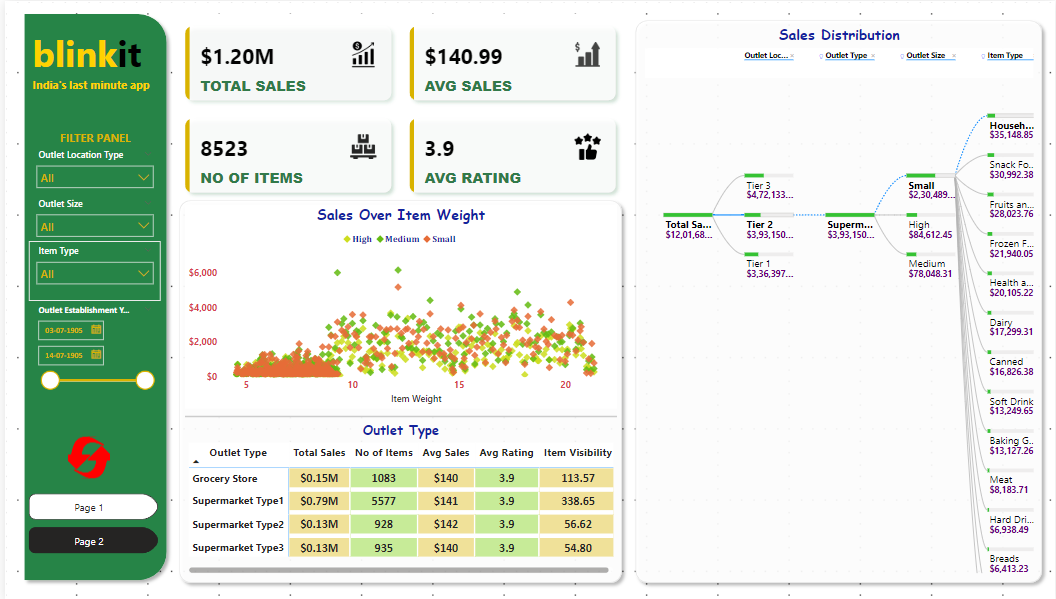

Layout of this report page (visuals, bound fields, positions):
{"tool":"powerbi","page":{"name":"Page 2","canvas":[1400,800],"ordinal":1},"visuals":[{"type":"shape","box":[16,9,208,773],"z":0},{"type":"textbox","box":[32,32,176,80],"z":1000},{"type":"textbox","box":[32,96,176,32],"z":2000},{"type":"cardVisual","fields":{"Data":["BlinkIT Grocery Data.Total Sales","BlinkIT Grocery Data.Avg Sales","BlinkIT Grocery Data.No of Items","BlinkIT Grocery Data.Avg Rating"]},"box":[224,16,608,256],"z":3000},{"type":"shape","box":[224,256,608,528],"z":4000},{"type":"shape","box":[832,16,560,768],"z":5000},{"type":"slicer","fields":{"Values":["BlinkIT Grocery Data.Outlet Location Type"]},"box":[32,192,176,64],"z":6000},{"type":"slicer","fields":{"Values":["BlinkIT Grocery Data.Outlet Size"]},"box":[32,256,176,64],"z":7000},{"type":"slicer","fields":{"Values":["BlinkIT Grocery Data.Item Type"]},"box":[32,320,176,80],"z":8000},{"type":"textbox","box":[48,167,144,32],"z":9000},{"type":"decompositionTreeVisual","title":"Sales Distribution ","fields":{"ExplainBy":["BlinkIT Grocery Data.Outlet Location Type","BlinkIT Grocery Data.Outlet Type","BlinkIT Grocery Data.Outlet Size","BlinkIT Grocery Data.Item Type"],"Analyze":["BlinkIT Grocery Data.Total Sales"]},"box":[848,32,528,736],"z":10000},{"type":"scatterChart","title":" Sales Over Item Weight","fields":{"Y":["BlinkIT Grocery Data.Total Sales"],"X":["BlinkIT Grocery Data.Item Weight"],"Series":["BlinkIT Grocery Data.Outlet Size"]},"box":[240,272,576,272],"z":11000},{"type":"pivotTable","title":"Outlet Type","fields":{"Rows":["BlinkIT Grocery Data.Outlet Type"],"Values":["BlinkIT Grocery Data.Total Sales","BlinkIT Grocery Data.No of Items","BlinkIT Grocery Data.Avg Sales","BlinkIT Grocery Data.Avg Rating","Sum(BlinkIT Grocery Data.Item Visibility)"]},"box":[240,560,576,208],"z":12000},{"type":"shape","box":[240,530,576,48],"z":13000},{"type":"pageNavigator","box":[32,656,176,80],"z":14000},{"type":"slicer","fields":{"Values":["BlinkIT Grocery Data.Outlet Establishment Year"]},"box":[32,400,176,128],"z":15000},{"type":"actionButton","box":[80,576,64,64],"z":16000}]}

Visuals, with their boxes in screenshot pixels (x1, y1, x2, y2), scaled from the page's 1400x800 canvas onto the 1056x599 screenshot:
shape: [left=12, top=7, right=169, bottom=586]
textbox: [left=24, top=24, right=157, bottom=84]
textbox: [left=24, top=72, right=157, bottom=96]
cardVisual - BlinkIT Grocery Data.Total Sales x BlinkIT Grocery Data.Avg Sales: [left=169, top=12, right=628, bottom=204]
shape: [left=169, top=192, right=628, bottom=587]
shape: [left=628, top=12, right=1050, bottom=587]
slicer - BlinkIT Grocery Data.Outlet Location Type: [left=24, top=144, right=157, bottom=192]
slicer - BlinkIT Grocery Data.Outlet Size: [left=24, top=192, right=157, bottom=240]
slicer - BlinkIT Grocery Data.Item Type: [left=24, top=240, right=157, bottom=300]
textbox: [left=36, top=125, right=145, bottom=149]
"Sales Distribution " decompositionTreeVisual: [left=640, top=24, right=1038, bottom=575]
" Sales Over Item Weight" scatterChart: [left=181, top=204, right=615, bottom=407]
"Outlet Type" pivotTable: [left=181, top=419, right=615, bottom=575]
shape: [left=181, top=397, right=615, bottom=433]
pageNavigator: [left=24, top=491, right=157, bottom=551]
slicer - BlinkIT Grocery Data.Outlet Establishment Year: [left=24, top=300, right=157, bottom=395]
actionButton: [left=60, top=431, right=109, bottom=479]
